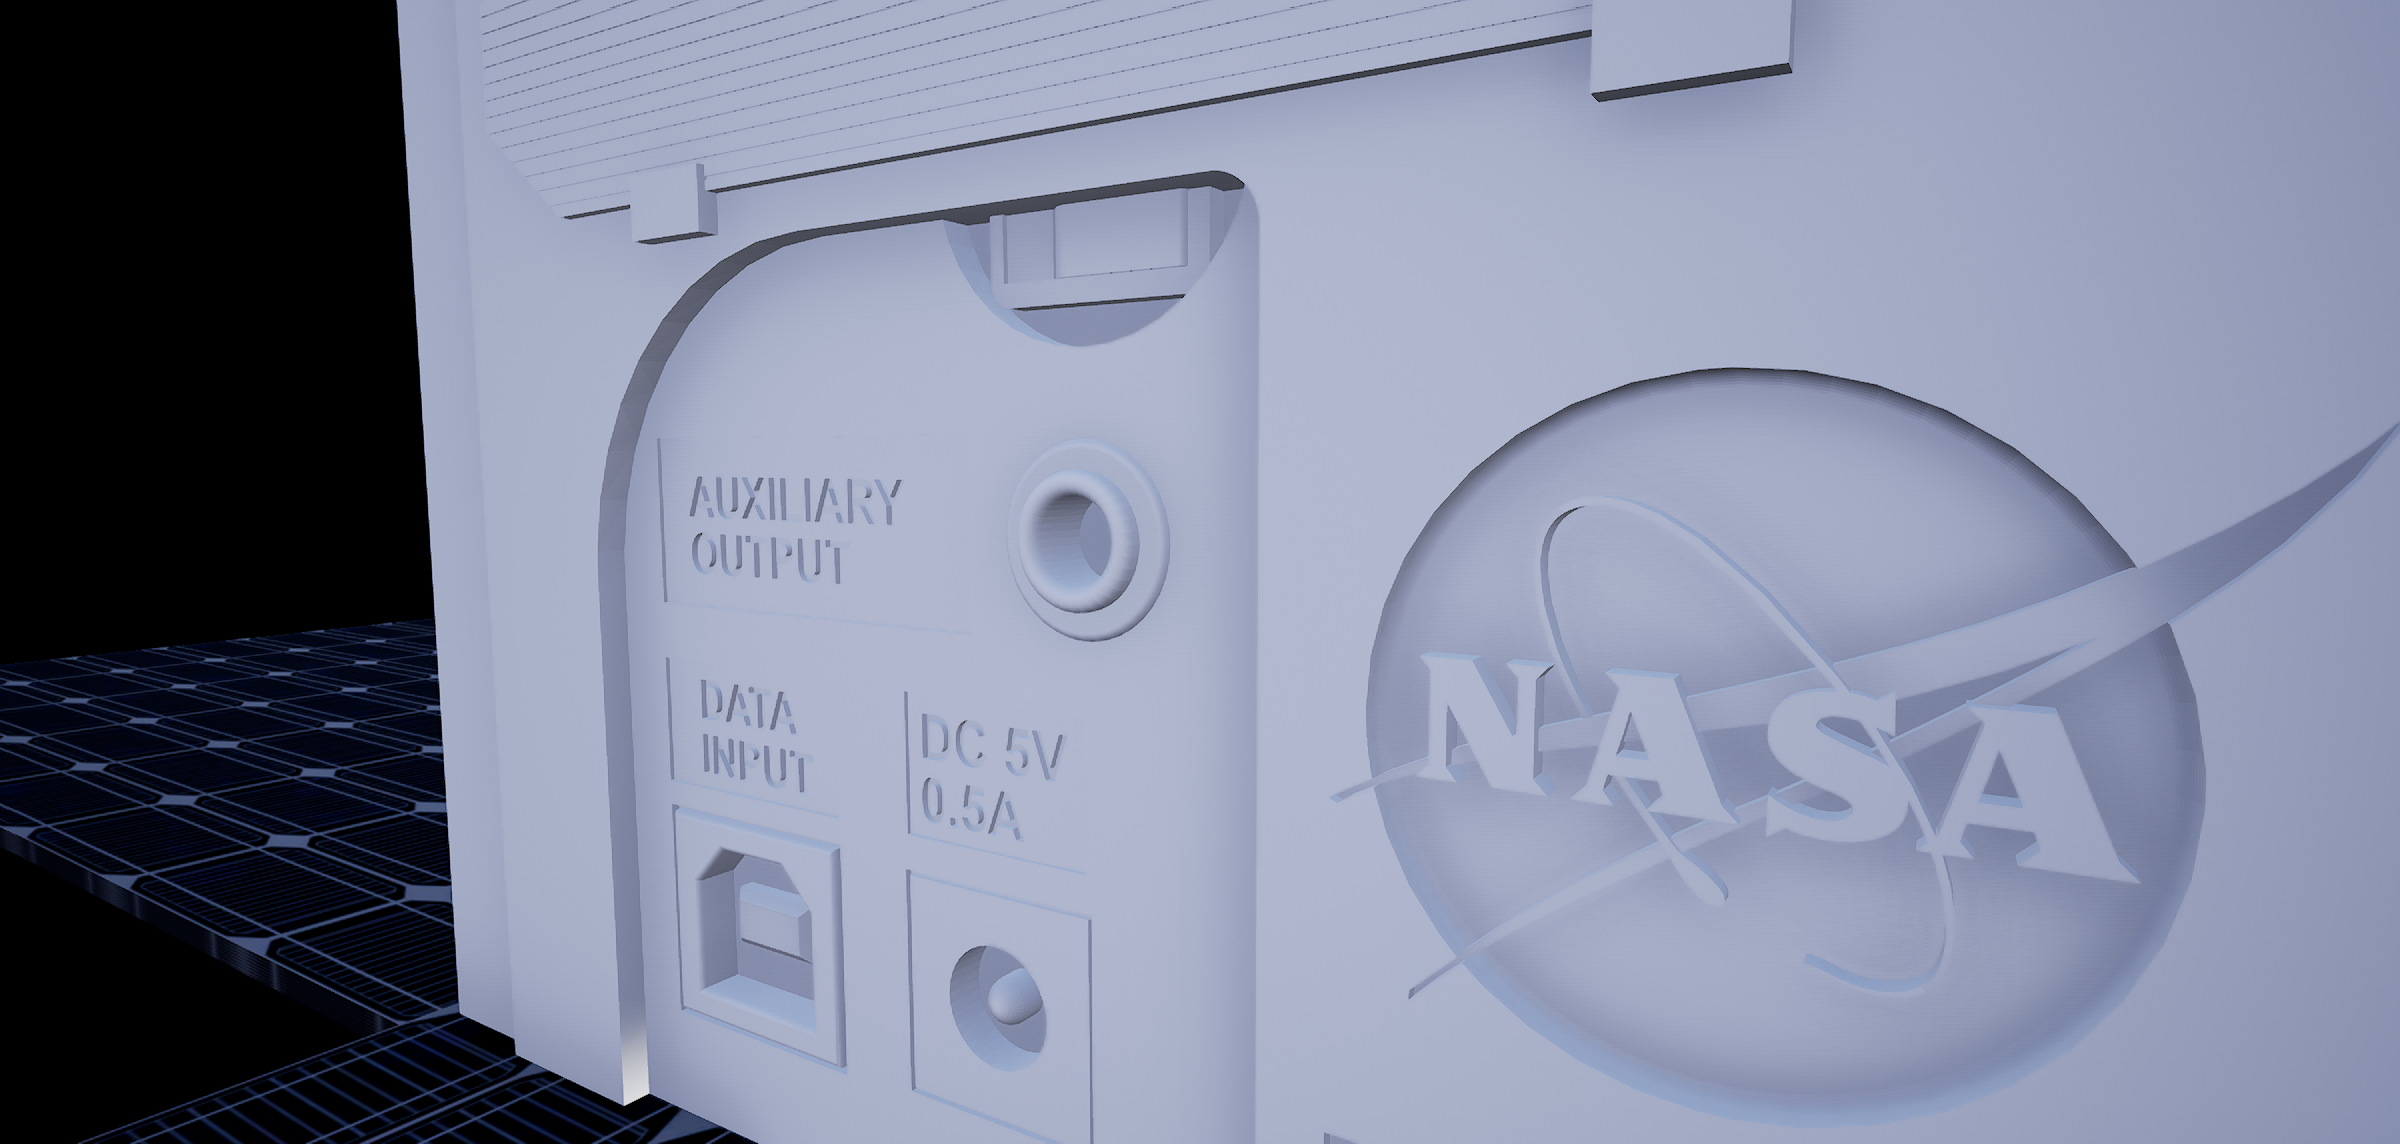aux: (984, 429, 1195, 672)
dc: (923, 920, 1056, 1103)
usb: (681, 838, 833, 1035)
